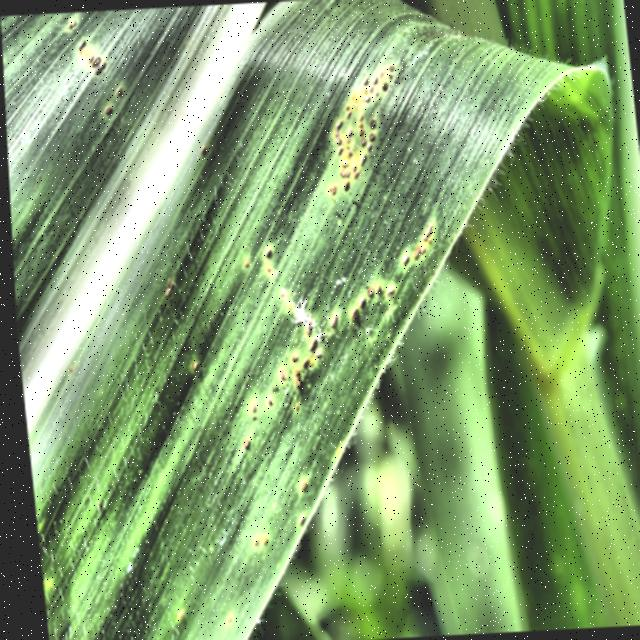common_rust: (1, 0, 616, 631)
